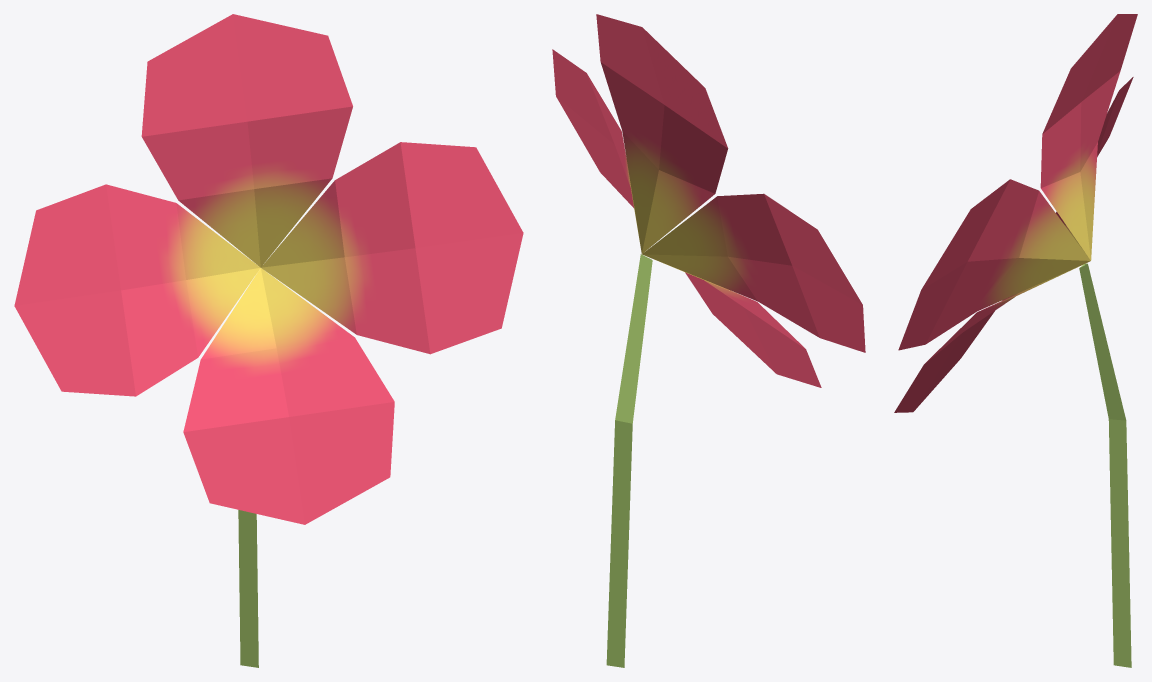
Rendered from Flower_c_TwoS_03.fbx.
3 views of the same model, side by side, from view 1: azimuth 30°, elevation 25°; view 2: azimuth 150°, elevation 25°; view 3: azimuth 270°, elevation 25° (orthographic). The views are drawn at different scales.
Parts seen in each view (by area): view 1: Flower_c_TwoS_03; view 2: Flower_c_TwoS_03; view 3: Flower_c_TwoS_03.
Boxes of the visible parts, <box> form: Flower_c_TwoS_03: <box>14,14,523,667</box>; Flower_c_TwoS_03: <box>552,14,865,667</box>; Flower_c_TwoS_03: <box>894,14,1137,667</box>.
Bounding box in the file's own units: 0.2962 × 0.4517 × 0.156.
